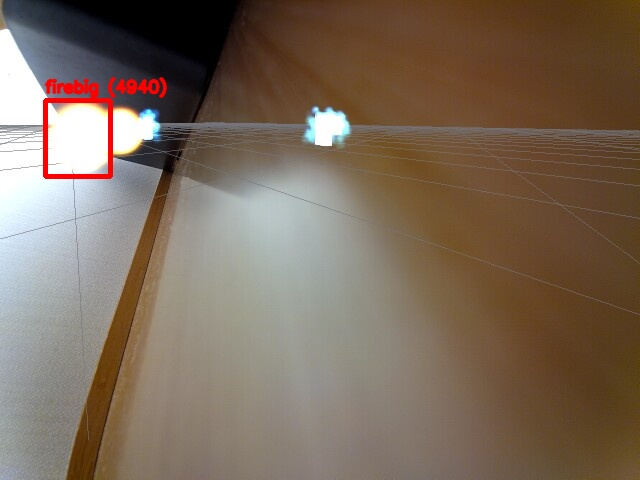firebig: (45, 100, 110, 176)
